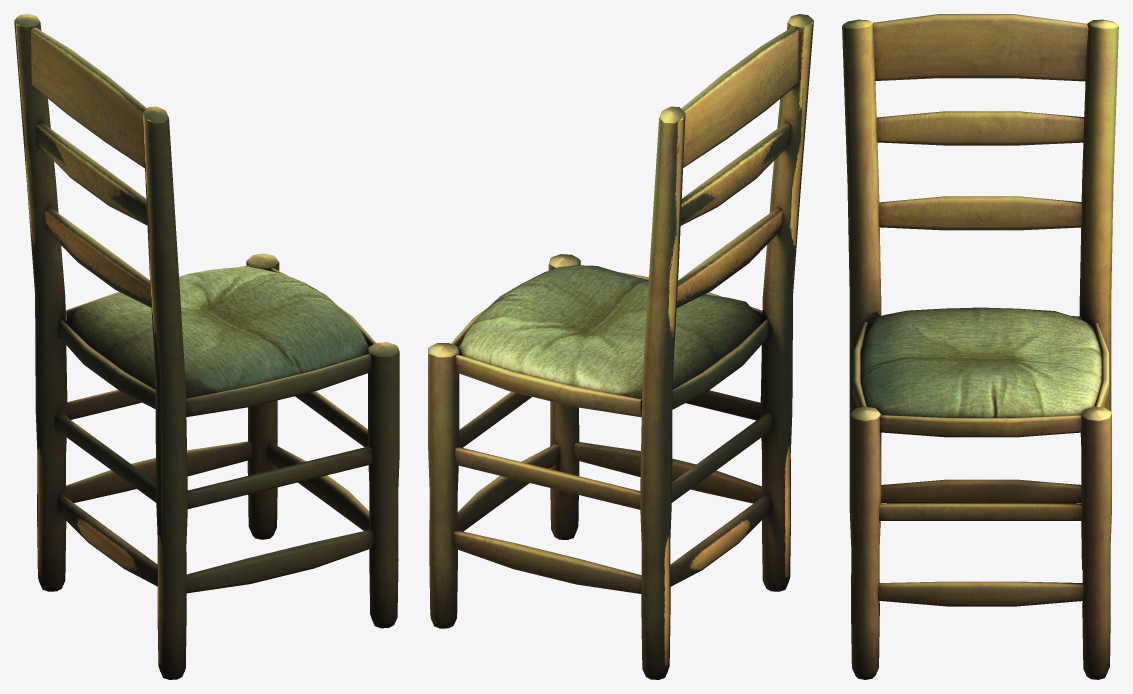
File: Chair.obj
3 views of the same model, side by side, from view 1: azimuth 30°, elevation 25°; view 2: azimuth 150°, elevation 25°; view 3: azimuth 270°, elevation 25° (orthographic). The views are drawn at different scales.
Visible parts, largest first — view 1: chair.1; view 2: chair.1; view 3: chair.1.
Boxes of the visible parts, left/top/right/bottom form: chair.1: left=14, top=14, right=399, bottom=679; chair.1: left=428, top=14, right=813, bottom=679; chair.1: left=842, top=14, right=1118, bottom=679.
Size of the model in its own units: 0.4943 by 1.06 by 0.4832.
